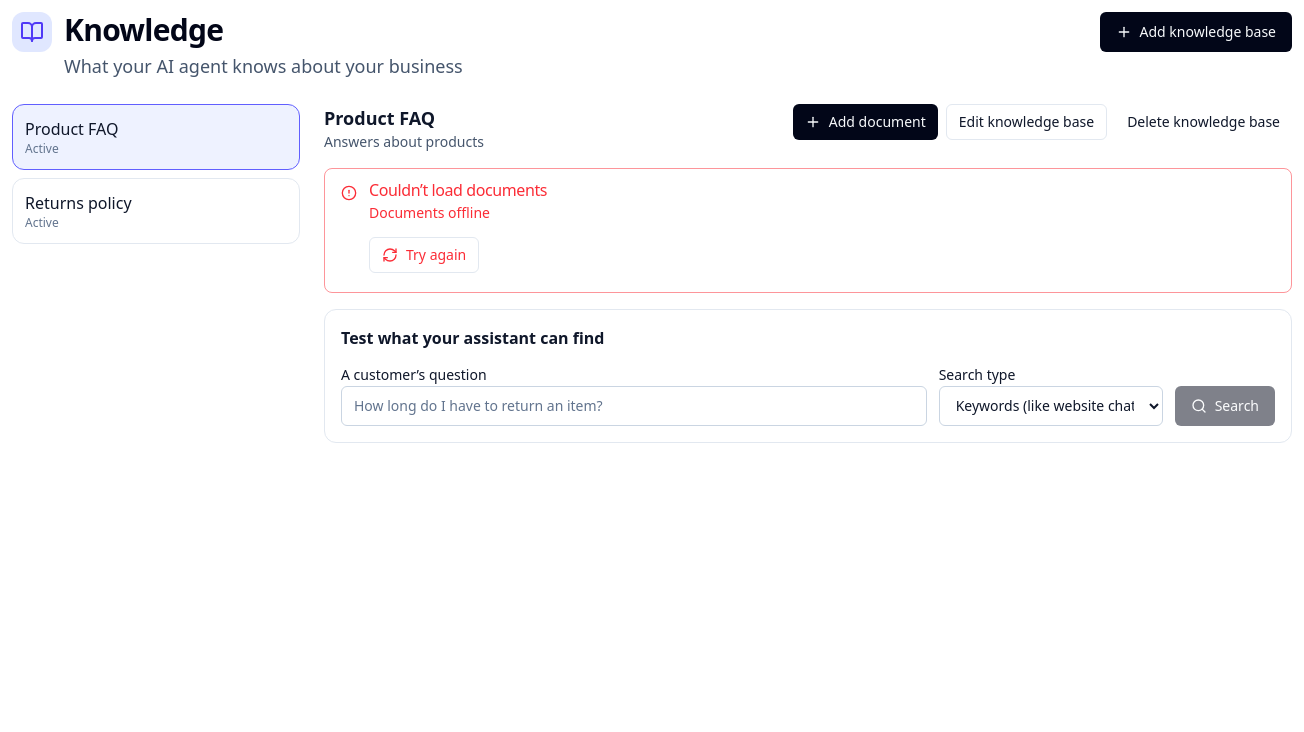
Test: KnowledgePage › shows a document error with retry
Check: the text "Documents offline" is shown, box [369,203,490,222]
Click the button "Try again". click: (424, 255)
box: [369,237,479,273]
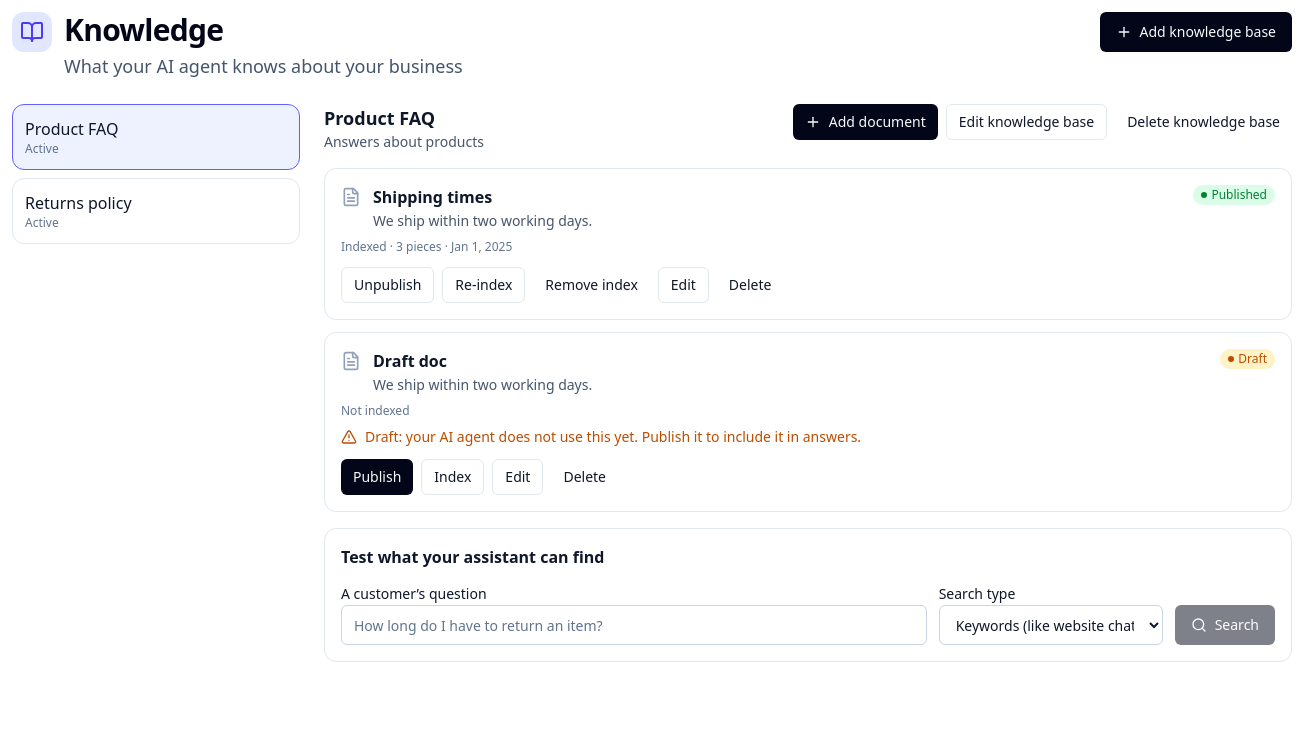
Check: the heading "Shipping times" is shown, box [373,186,492,208]
